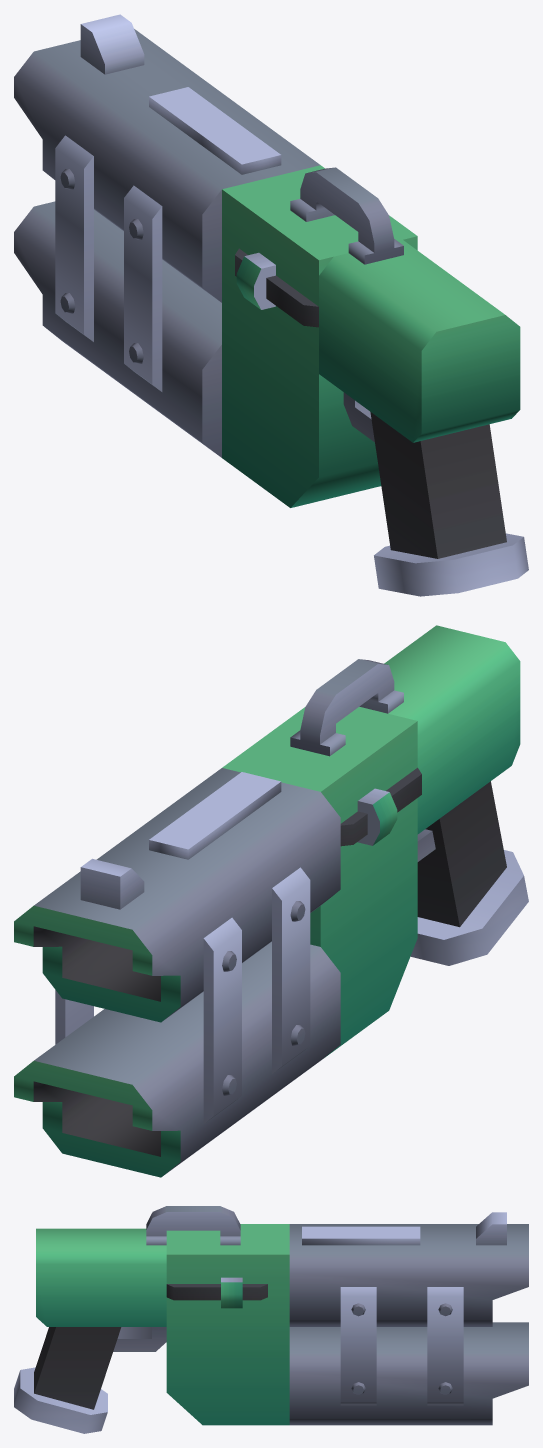
File: shotgun.glb
3 views of the same model, one above another, from view 1: azimuth 30°, elevation 25°; view 2: azimuth 150°, elevation 25°; view 3: azimuth 270°, elevation 25° (orthographic). The views are drawn at different scales.
Visible parts, largest first — view 1: blaster-q; view 2: blaster-q; view 3: blaster-q.
Part boxes in pixels (x1,y1,x2,y2): blaster-q: (14, 14, 528, 596); blaster-q: (14, 625, 528, 1177); blaster-q: (14, 1206, 528, 1433).
Size of the model in its own units: 0.17 by 0.3238 by 0.7104.
Materials: 1 (1 with a texture image).
